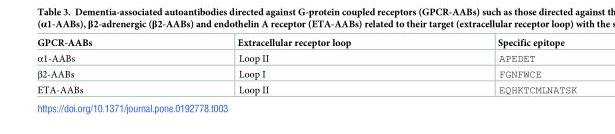table: (36, 37, 576, 95)
table column: (164, 37, 423, 95), (423, 37, 576, 95), (36, 37, 164, 95)
table column header: (36, 37, 576, 49)
table row: (36, 49, 576, 65), (36, 65, 576, 81), (36, 81, 576, 95), (36, 37, 576, 49)
